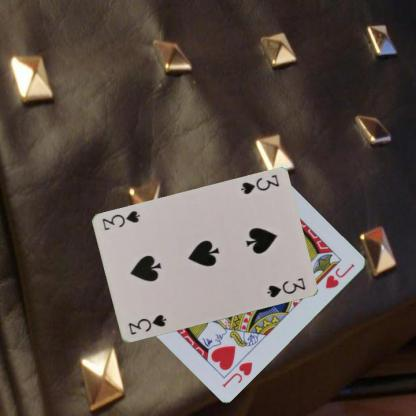3s: (126, 312, 168, 337), (238, 172, 280, 196)
Jh: (220, 359, 254, 388)
